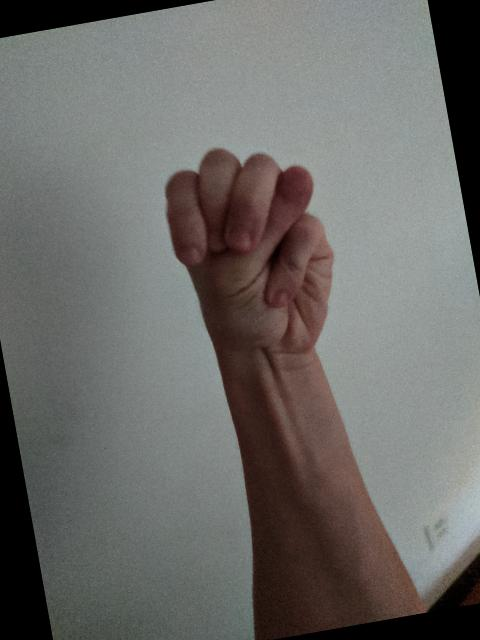M: (150, 123, 356, 378)
